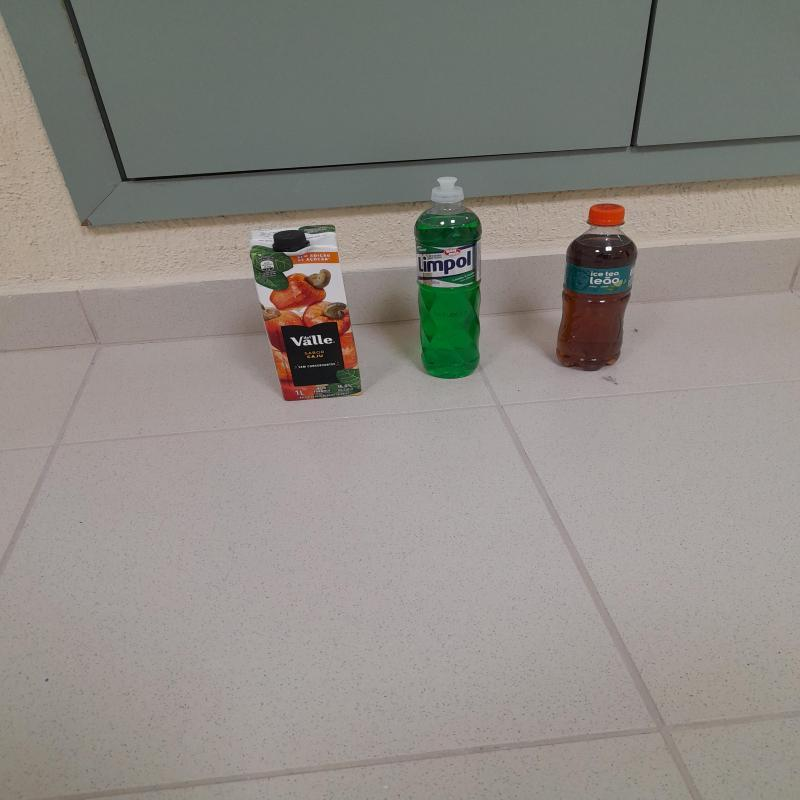Cleaner: (413, 178, 482, 382)
IceTea: (556, 203, 639, 375)
